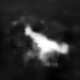plane: (22, 22, 70, 68)
